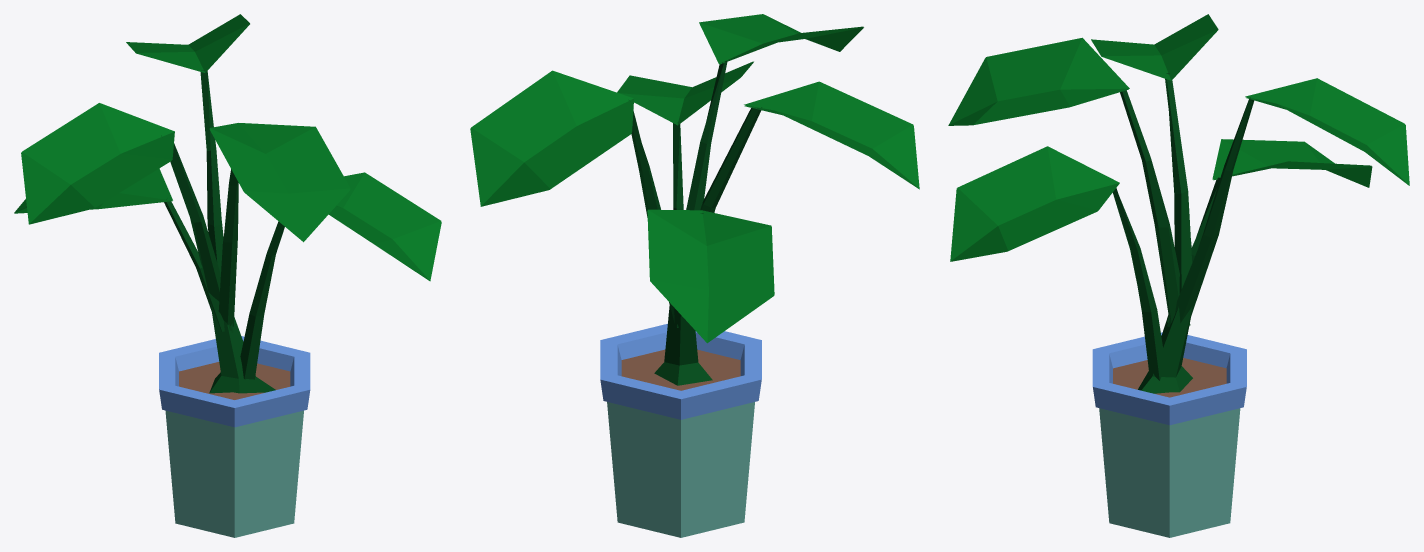
Rendered from Yogaroom_flower9.fbx.
3 views of the same model, side by side, from view 1: azimuth 30°, elevation 25°; view 2: azimuth 150°, elevation 25°; view 3: azimuth 270°, elevation 25° (orthographic). The views are drawn at different scales.
Visible parts, largest first — view 1: Yogaroom_flower9; view 2: Yogaroom_flower9; view 3: Yogaroom_flower9.
Part boxes in pixels (x1=…): Yogaroom_flower9: x1=14, y1=14, x2=441, y2=537; Yogaroom_flower9: x1=470, y1=14, x2=919, y2=537; Yogaroom_flower9: x1=948, y1=14, x2=1409, y2=537.
Bounding box in the file's own units: 108 × 124 × 130.
